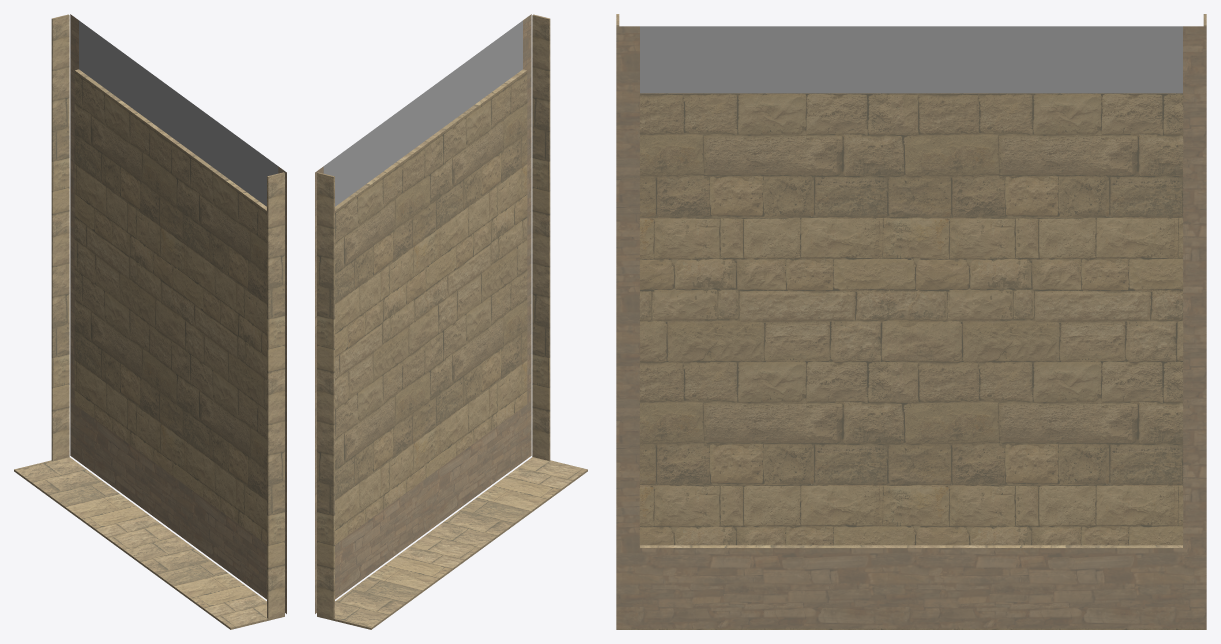
Rendered from tea-terrace-receivers-tea-landing.glb.
3 views of the same model, side by side, from view 1: azimuth 30°, elevation 25°; view 2: azimuth 150°, elevation 25°; view 3: azimuth 270°, elevation 25° (orthographic). The views are drawn at different scales.
Parts seen in each view (by area): view 1: bz06_dressed_sandstone-cast, bz06_service_stone-cast, ph_bz04_stone_trim_sandstone-cast; view 2: bz06_dressed_sandstone-cast, bz06_service_stone-cast, ph_bz04_stone_trim_sandstone-cast; view 3: bz06_dressed_sandstone-cast, bz06_service_stone-cast, ph_bz04_stone_trim_sandstone-cast.
Part boxes in pixels (bbox=[...]): bz06_dressed_sandstone-cast: bbox=[14, 14, 284, 629]; bz06_service_stone-cast: bbox=[70, 14, 286, 613]; ph_bz04_stone_trim_sandstone-cast: bbox=[79, 20, 278, 206]; bz06_dressed_sandstone-cast: bbox=[317, 14, 587, 629]; bz06_service_stone-cast: bbox=[315, 14, 531, 613]; ph_bz04_stone_trim_sandstone-cast: bbox=[323, 20, 522, 206]; bz06_dressed_sandstone-cast: bbox=[616, 14, 1206, 629]; bz06_service_stone-cast: bbox=[616, 26, 1206, 628]; ph_bz04_stone_trim_sandstone-cast: bbox=[640, 26, 1182, 93].
Size of the model in its own units: 0.6 by 4.52 by 4.
Materials: 3 (2 with a texture image).
